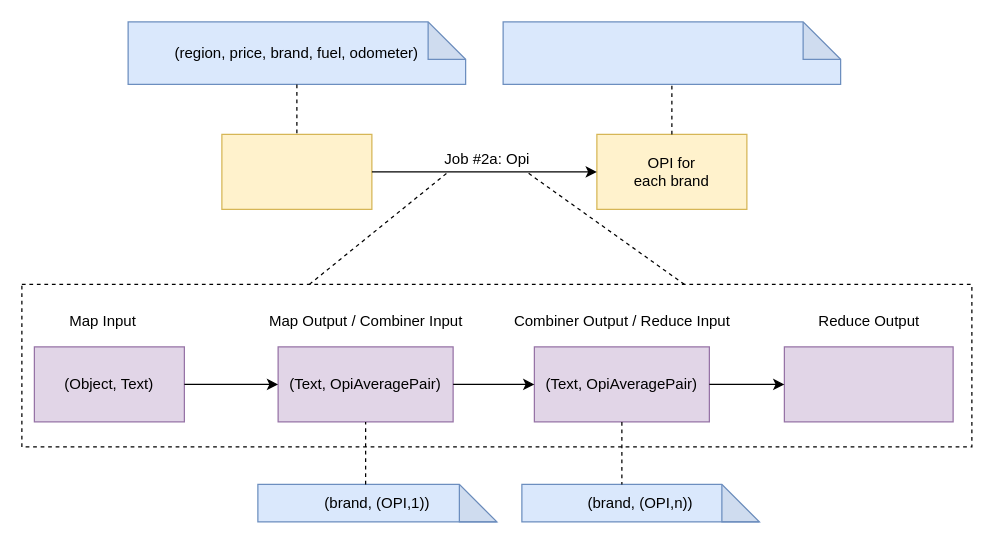
Image size: 994x544. Some labels were removed from this diagram. The box of each missing label's shape, as (x1, y1, x2, y2) in pixels:
(brand, OPI): (502, 21, 841, 84)
(Text, DoubleWritable): (783, 346, 953, 422)
Preprocessed dataset: (221, 133, 372, 209)
